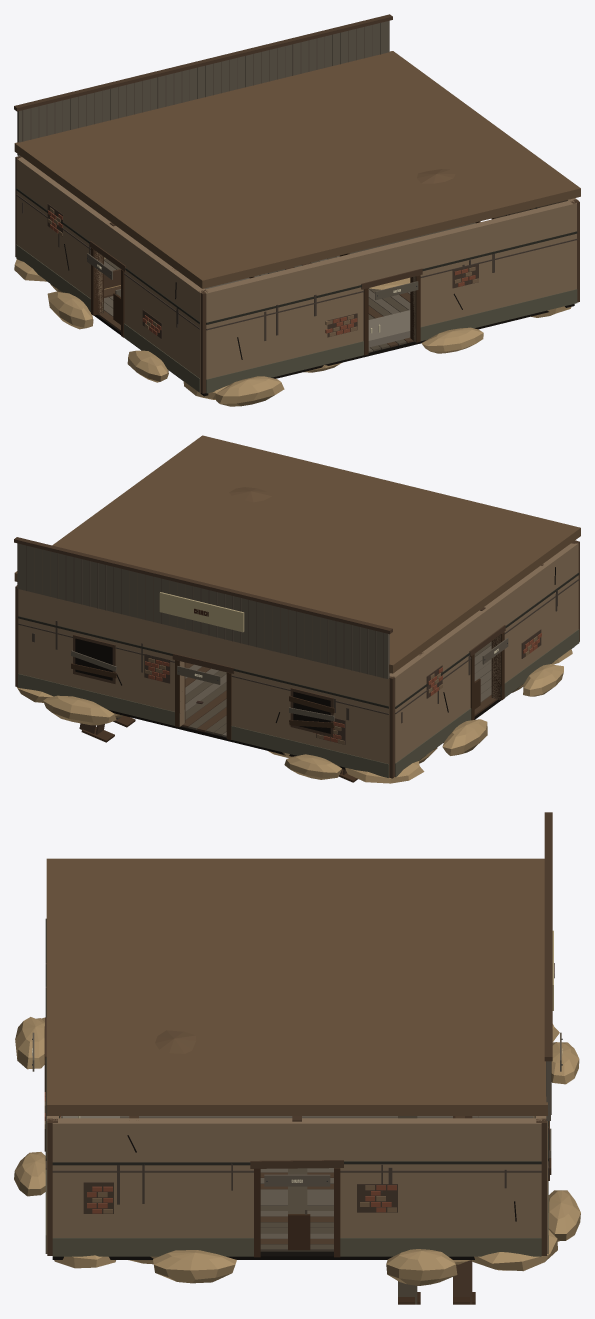
Rendered from TownBldg_church.glb.
3 views of the same model, one above another, from view 1: azimuth 30°, elevation 25°; view 2: azimuth 150°, elevation 25°; view 3: azimuth 270°, elevation 25° (orthographic). The views are drawn at different scales.
Visible parts, largest first — view 1: TownBldg_church.001; view 2: TownBldg_church.001; view 3: TownBldg_church.001.
Part boxes in pixels (bbox=[...]): TownBldg_church.001: bbox=[14, 14, 580, 406]; TownBldg_church.001: bbox=[14, 435, 580, 783]; TownBldg_church.001: bbox=[14, 812, 580, 1304].
Size of the model in its own units: 15.91 by 7.55 by 13.92.
